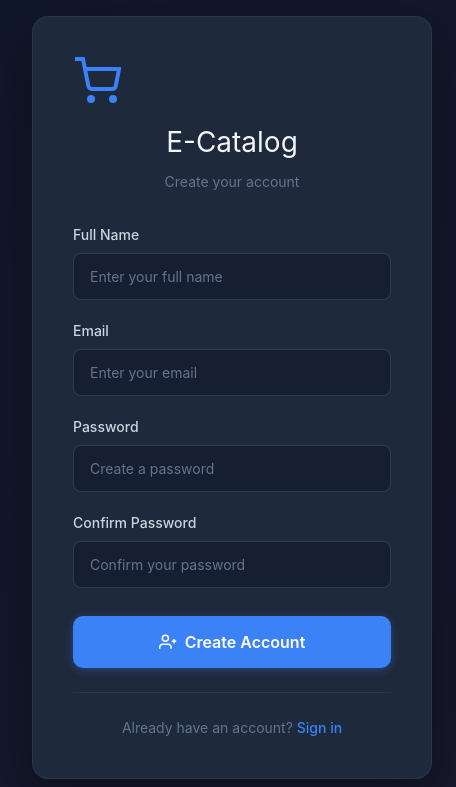
Test: Authentication Flow Integration Tests › TC2: Registration Flow › TC2.2: should prevent registration with mismatched passwords
Step 1. Type "Test User" into the field labelled "Full Name" → (232, 276), box [73, 253, 391, 300]
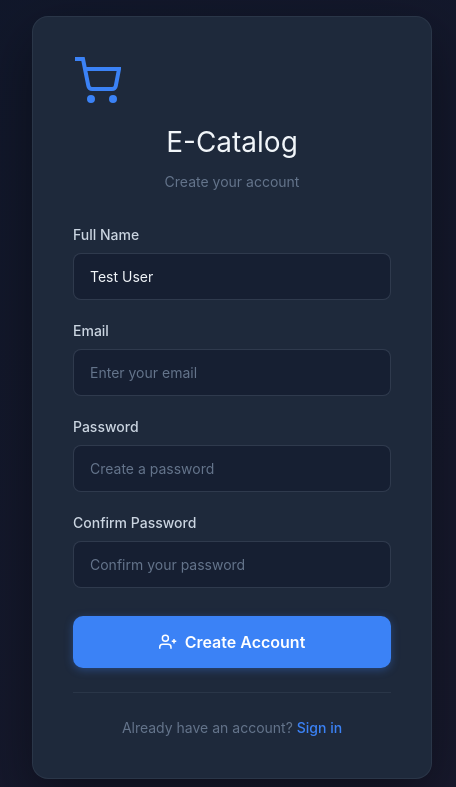
Step 2. Type "test@test.com" into the field labelled "Email" → (232, 372), box [73, 349, 391, 396]
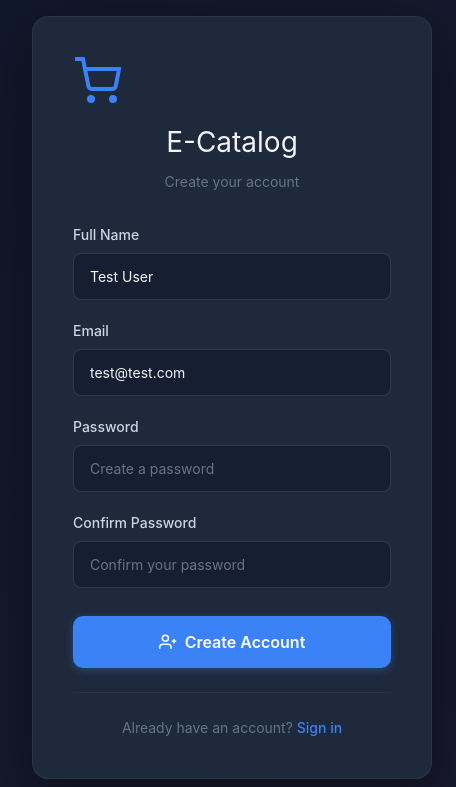
Step 3. Type "password123" into the password field labelled "Password" → (232, 468), box [73, 445, 391, 492]
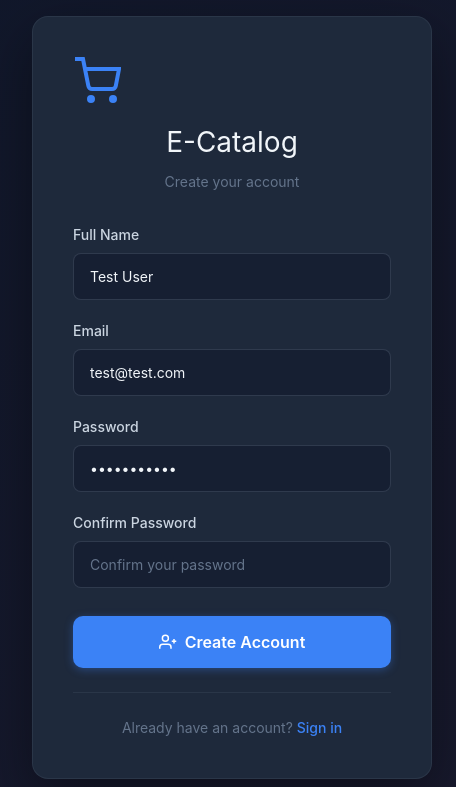
Step 4. Type "different" into the password field labelled "Confirm Password" → (232, 564), box [73, 541, 391, 588]
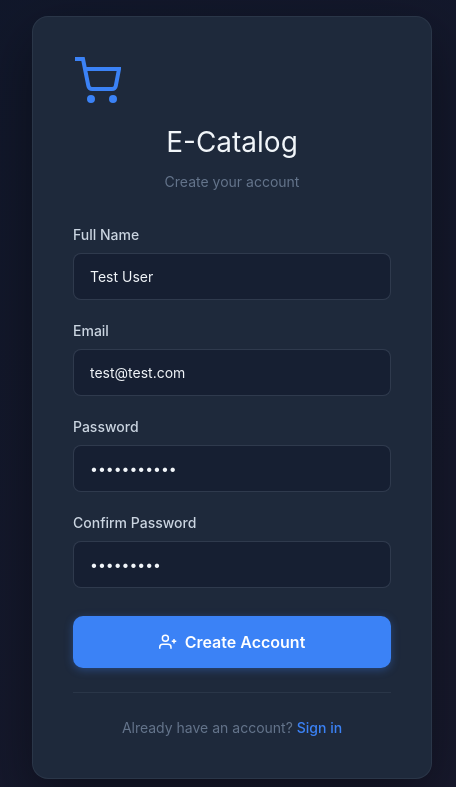
Step 5. Click the button "Create Account" → (232, 642), box [73, 616, 391, 668]
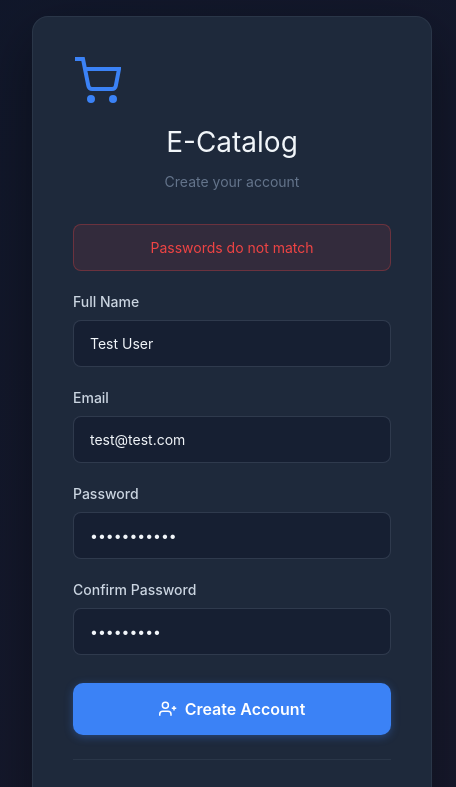
expect the text "Passwords do not match" is shown: met, box [73, 224, 391, 271]
